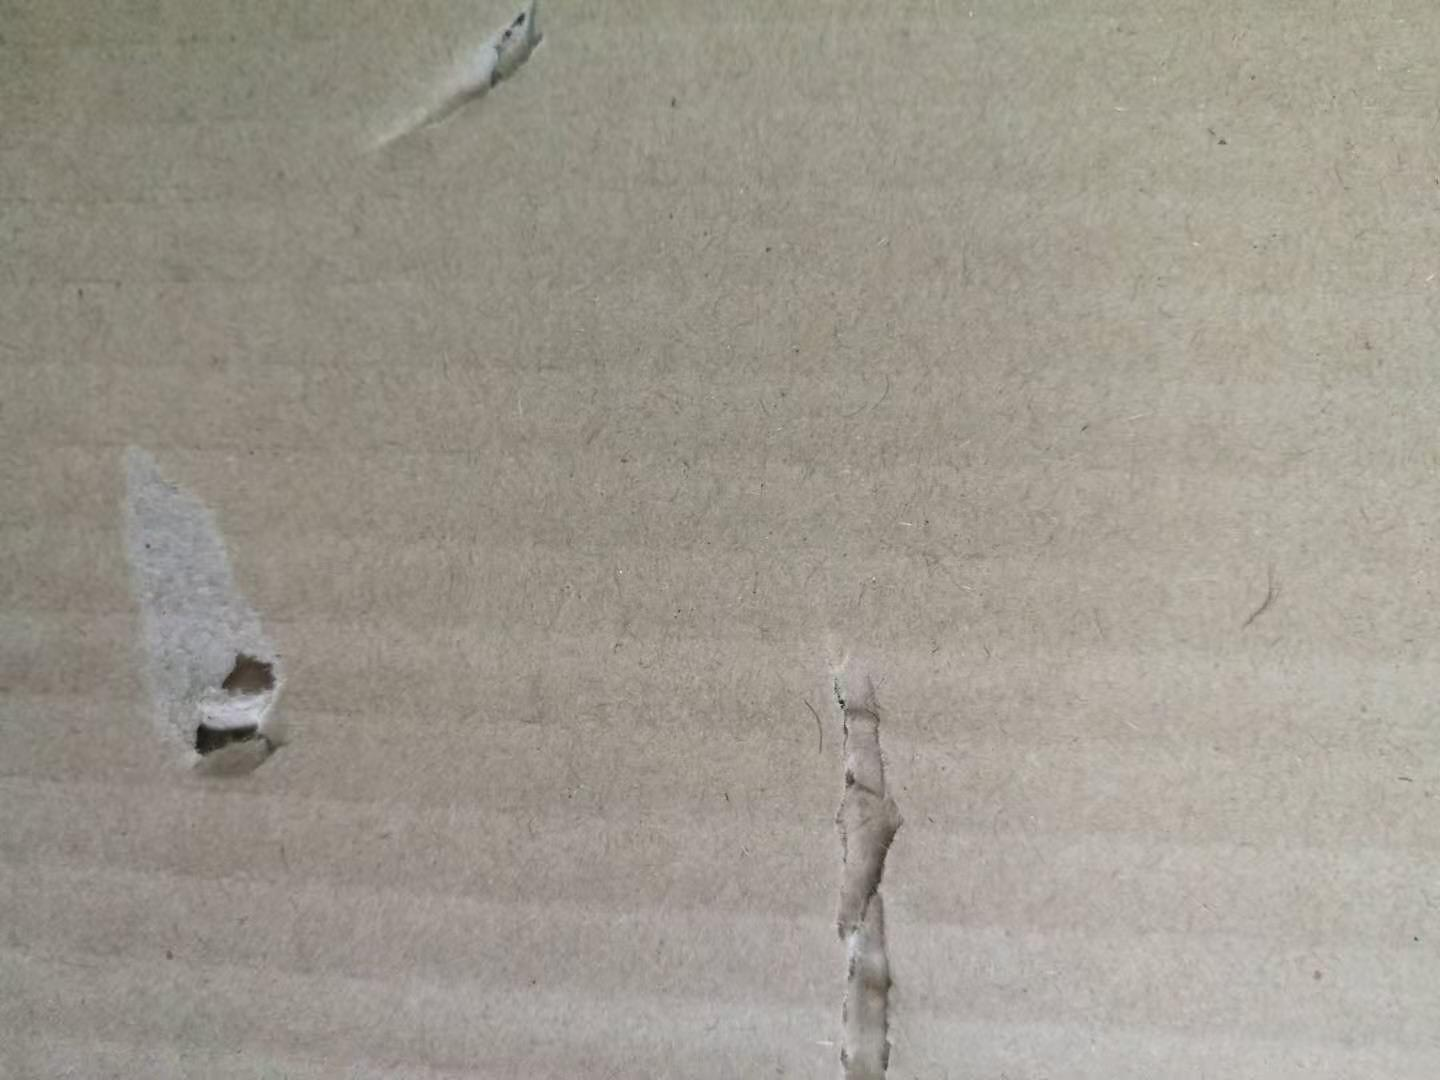defect: (88, 424, 320, 819), (777, 611, 950, 1080), (362, 2, 577, 157)
